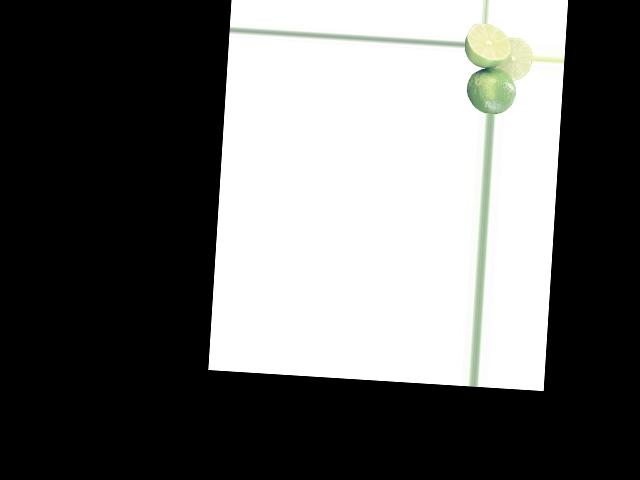lemon: (467, 63, 516, 114)
